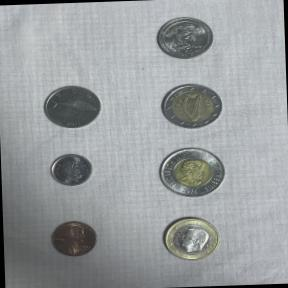1 Euro-B: (158, 212, 225, 264)
2 Euro-B: (156, 75, 228, 133)
Canada-10cent-B: (44, 148, 97, 190)
Canada-2Dollar-B: (152, 142, 232, 202)
Croatia-2Kune-B: (38, 79, 106, 134)
US-1cent-B: (42, 214, 103, 262)
US-25cent-B: (150, 10, 218, 62)
